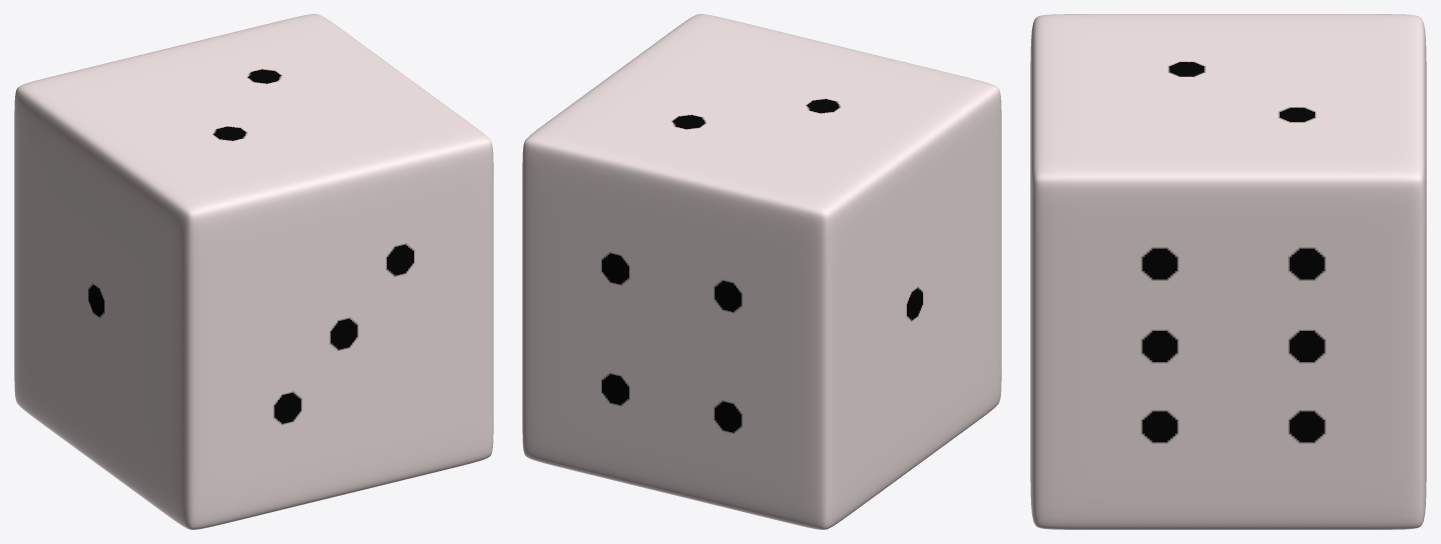
The picture shows the model from 3 angles, left to right: view 1: azimuth 30°, elevation 25°; view 2: azimuth 150°, elevation 25°; view 3: azimuth 270°, elevation 25°; orthographic projection. The views are drawn at different scales.
Parts seen in each view (by area): view 1: Cube; view 2: Cube; view 3: Cube.
Boxes of the visible parts, x1,y1,x2,y2 form: Cube: (14,14,493,529); Cube: (522,14,1001,529); Cube: (1030,14,1426,529).
Bounding box in the file's own units: 200 × 200 × 200.
